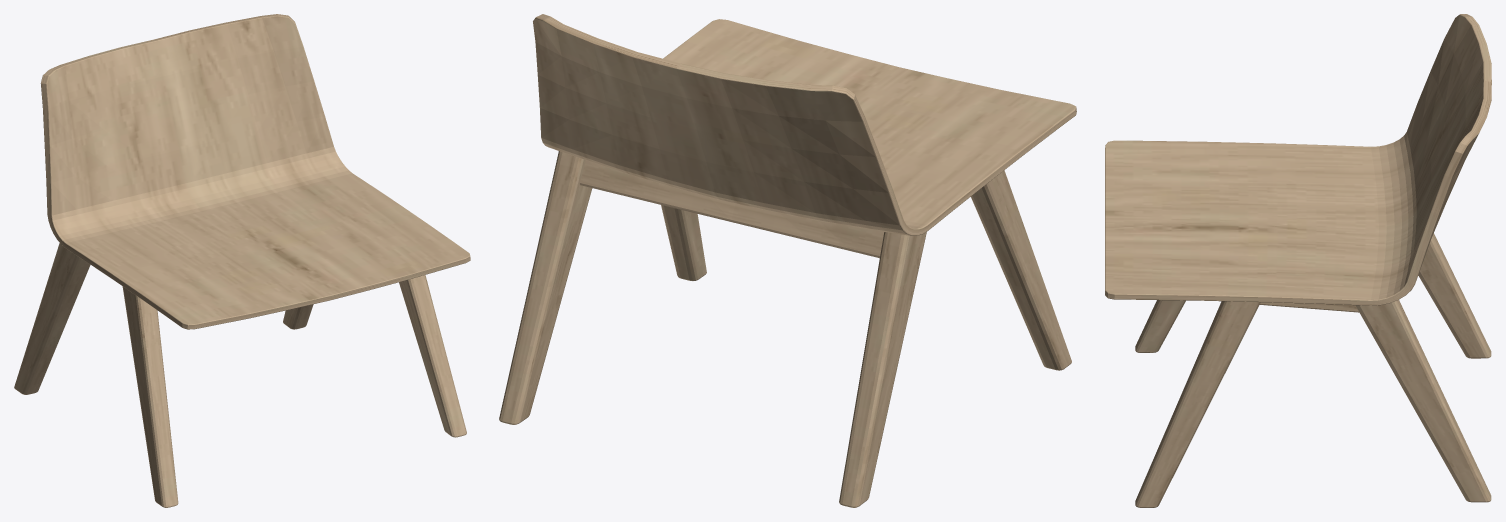
Rendered from sh-bs0-osaka-chair.glb.
3 views of the same model, side by side, from view 1: azimuth 30°, elevation 25°; view 2: azimuth 150°, elevation 25°; view 3: azimuth 270°, elevation 25° (orthographic). The views are drawn at different scales.
Visible parts, largest first — view 1: Osaka_Plane.008; view 2: Osaka_Plane.008; view 3: Osaka_Plane.008.
Boxes of the visible parts, box(x1,y1,x2,y2) form: Osaka_Plane.008: box(14, 14, 470, 507); Osaka_Plane.008: box(499, 14, 1076, 507); Osaka_Plane.008: box(1105, 14, 1491, 507).
Bounding box in the file's own units: 1 × 1 × 1.
Materials: 1 (1 with a texture image).
